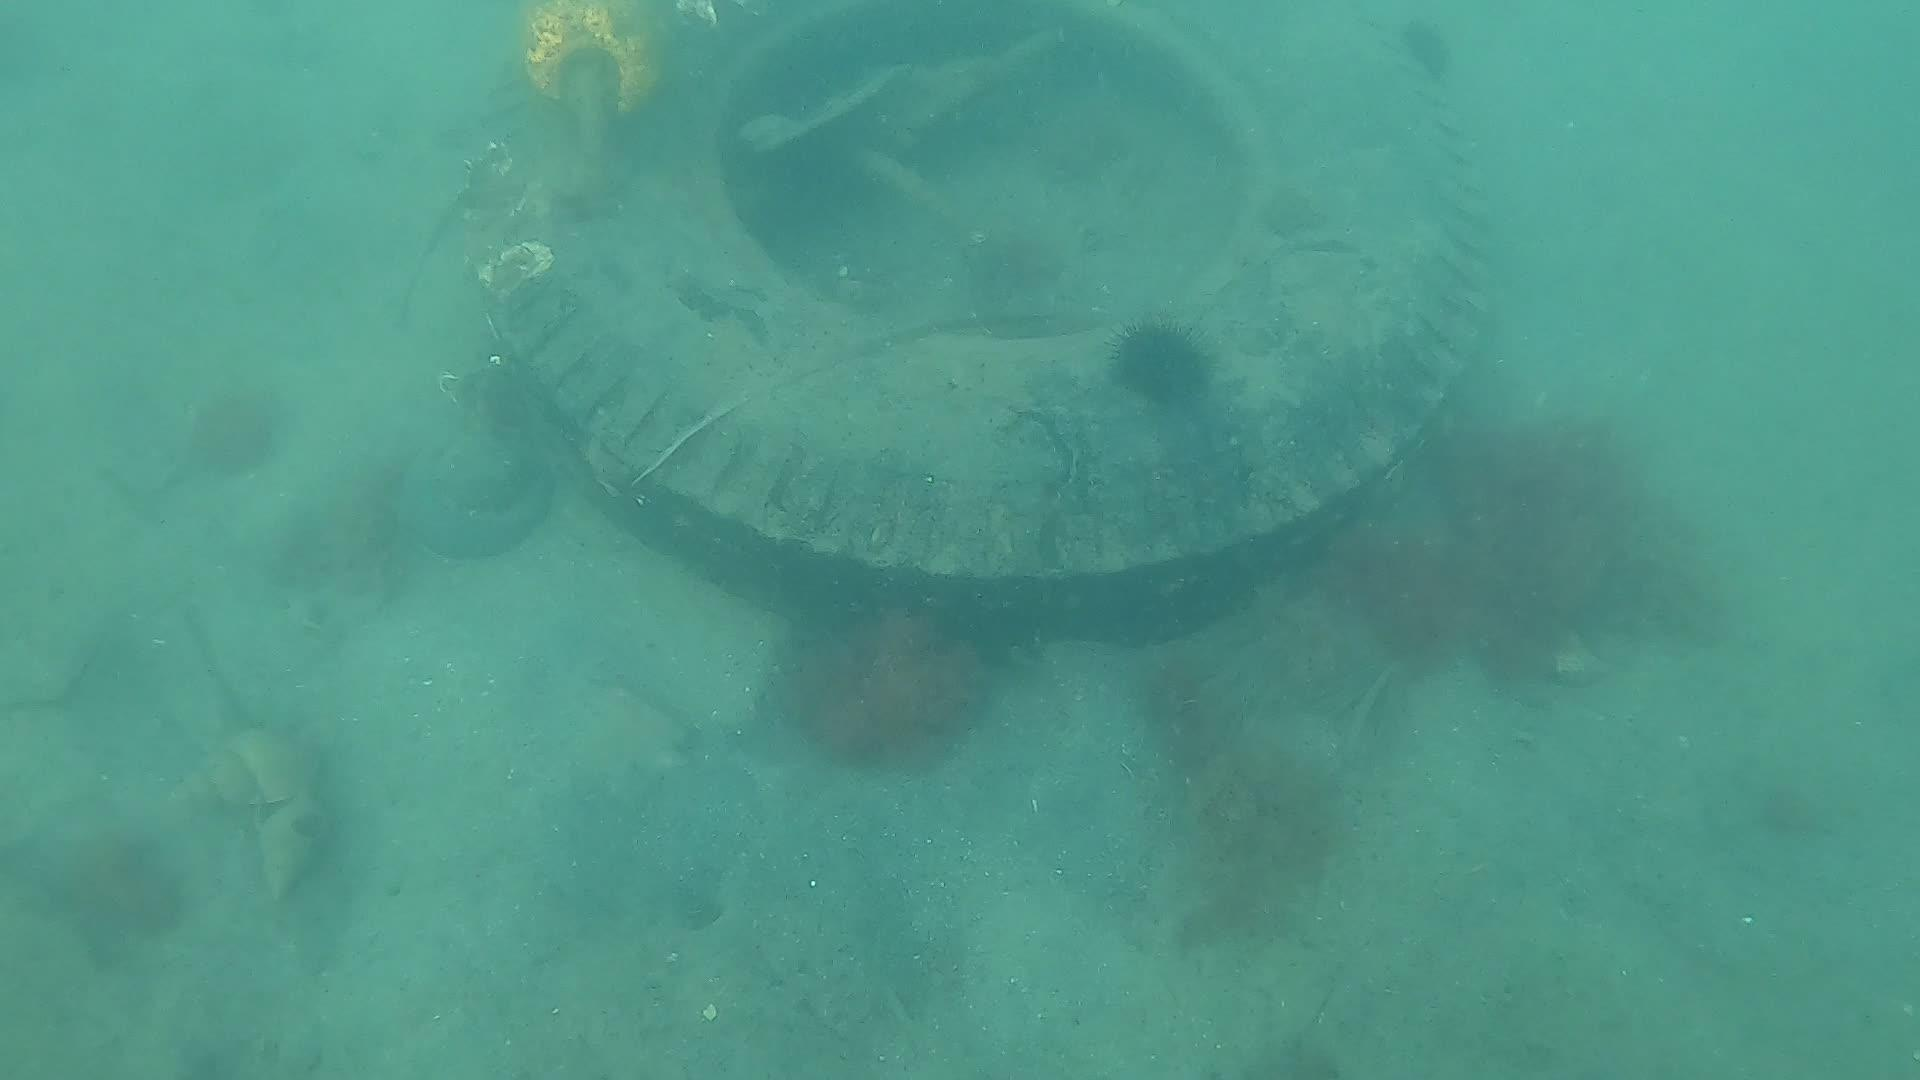tire: (463, 3, 1487, 651)
